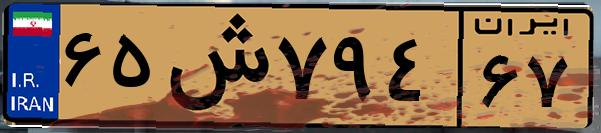4: (385, 28, 445, 110)
5: (110, 28, 158, 98)
6: (57, 26, 110, 100), (475, 38, 525, 113)
7: (270, 28, 330, 110), (525, 38, 570, 115)
9: (330, 28, 385, 110)
ش: (158, 12, 270, 120)
